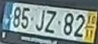2: (73, 13, 86, 38)
5: (20, 6, 31, 30)
8: (62, 11, 75, 36), (11, 5, 21, 28)
J: (34, 9, 45, 32)
Z: (43, 9, 57, 34)
